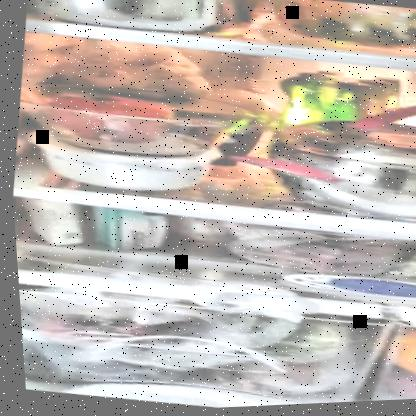mineral_water: (284, 65, 388, 128)
orange: (389, 330, 415, 383)
tomato: (54, 88, 169, 146)
